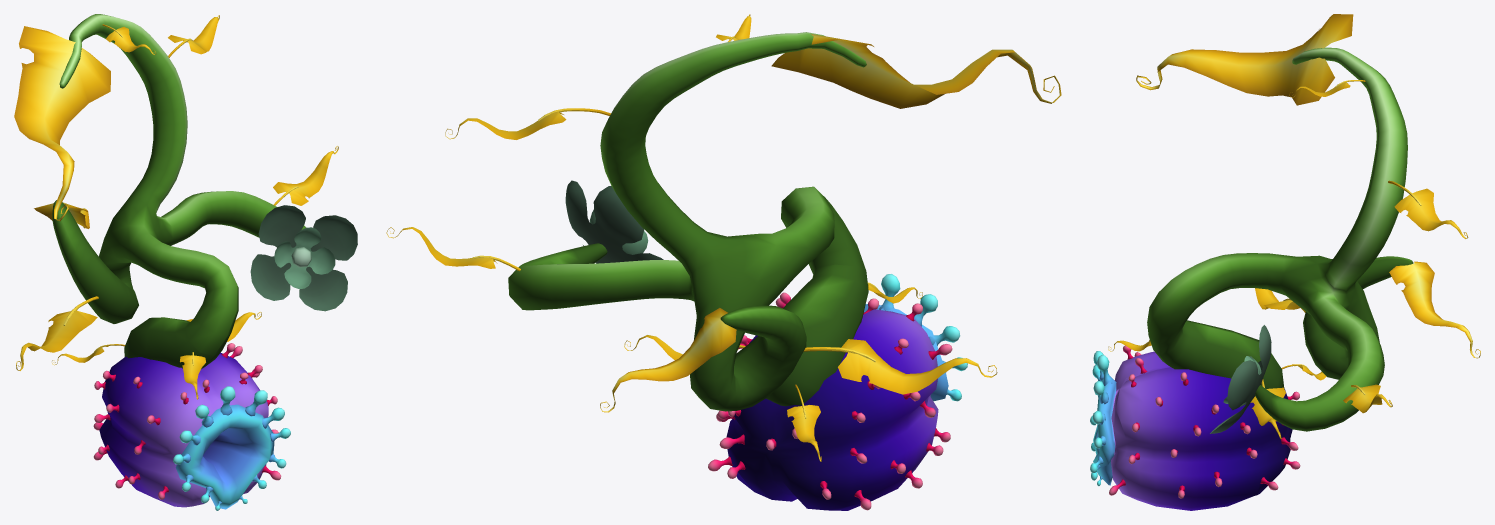
Rendered from wp_noPot_6.fbx.
The picture shows the model from 3 angles, left to right: view 1: azimuth 30°, elevation 25°; view 2: azimuth 150°, elevation 25°; view 3: azimuth 270°, elevation 25°; orthographic projection. The views are drawn at different scales.
Visible parts, largest first — view 1: w_pl6.003; view 2: w_pl6.003; view 3: w_pl6.003.
Boxes of the visible parts, <box> form: w_pl6.003: <box>14,14,357,510</box>; w_pl6.003: <box>386,14,1061,510</box>; w_pl6.003: <box>1090,14,1480,510</box>.
Bounding box in the file's own units: 152 × 155 × 124.
